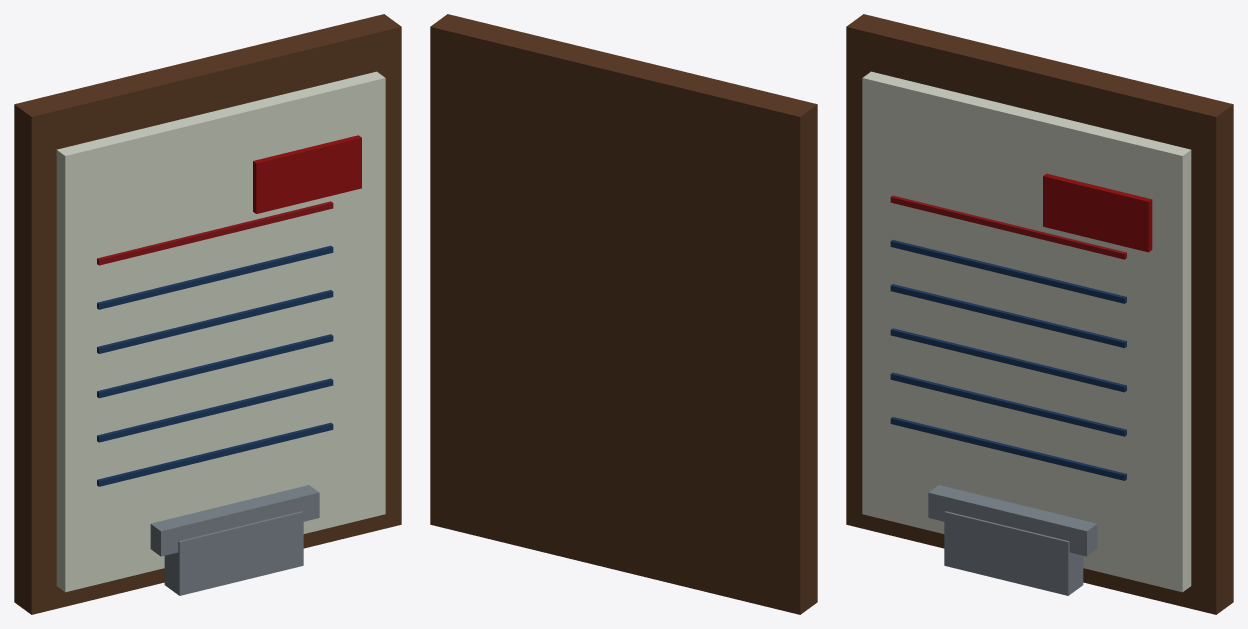
The model's file is hospital_01.obj.
3 renders of one model, left to right at view 1: azimuth 30°, elevation 25°; view 2: azimuth 150°, elevation 25°; view 3: azimuth 330°, elevation 25°, orthographic.
Visible parts, largest first — view 1: Paper, Clipboard, MetalClip, DateStamp, ClipJaw, RecordLine1, RecordLine0, RecordLine4, RecordLine5, RecordLine2, RecordLine3; view 2: Clipboard; view 3: Paper, Clipboard, MetalClip, DateStamp, ClipJaw, RecordLine5, RecordLine1, RecordLine4, RecordLine3, RecordLine0, RecordLine2.
Part boxes in pixels (x1,y1,x2,y2): Paper: [56, 71, 385, 592]; Clipboard: [14, 14, 401, 614]; MetalClip: [164, 511, 303, 595]; DateStamp: [253, 135, 361, 213]; ClipJaw: [150, 485, 319, 556]; RecordLine1: [97, 378, 333, 442]; RecordLine0: [97, 422, 333, 486]; RecordLine4: [97, 245, 333, 309]; RecordLine5: [97, 201, 333, 265]; RecordLine2: [97, 334, 333, 398]; RecordLine3: [97, 290, 333, 353]; Clipboard: [430, 14, 817, 614]; Paper: [862, 71, 1191, 592]; Clipboard: [846, 14, 1233, 614]; MetalClip: [944, 511, 1083, 595]; DateStamp: [1043, 173, 1152, 252]; ClipJaw: [928, 485, 1097, 556]; RecordLine5: [890, 195, 1126, 259]; RecordLine1: [890, 372, 1126, 436]; RecordLine4: [890, 240, 1126, 303]; RecordLine3: [890, 284, 1126, 347]; RecordLine0: [890, 417, 1126, 480]; RecordLine2: [890, 328, 1126, 392].
Size of the model in its own units: 2.45 by 3.15 by 0.485.
